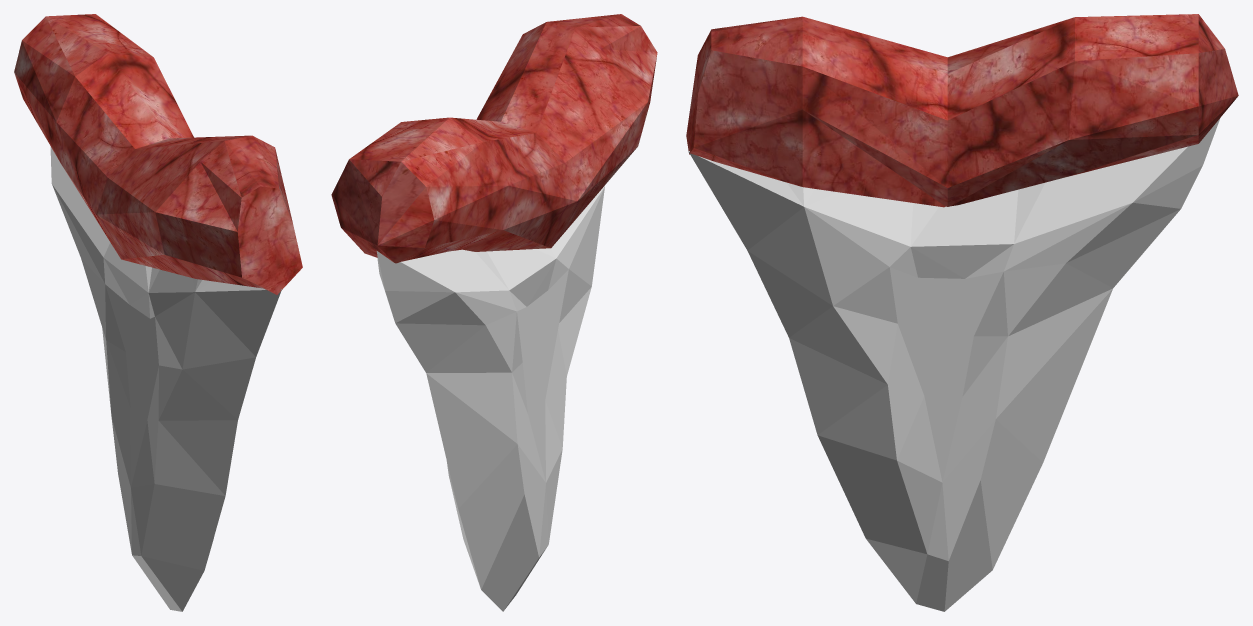
File: tooth.glb
The picture shows the model from 3 angles, left to right: view 1: azimuth 30°, elevation 25°; view 2: azimuth 150°, elevation 25°; view 3: azimuth 270°, elevation 25°; orthographic projection. The views are drawn at different scales.
Visible parts, largest first — view 1: Cylinder.045, Vert; view 2: Cylinder.045, Vert; view 3: Vert, Cylinder.045.
Boxes of the visible parts, x1,y1,x2,y2 form: Cylinder.045: [14, 14, 302, 294]; Vert: [50, 146, 281, 611]; Cylinder.045: [331, 14, 657, 263]; Vert: [376, 185, 605, 611]; Vert: [688, 118, 1220, 611]; Cylinder.045: [686, 14, 1238, 207].
Size of the model in its own units: 1.09 by 4.01 by 3.4.
2 materials, 1 textured.
